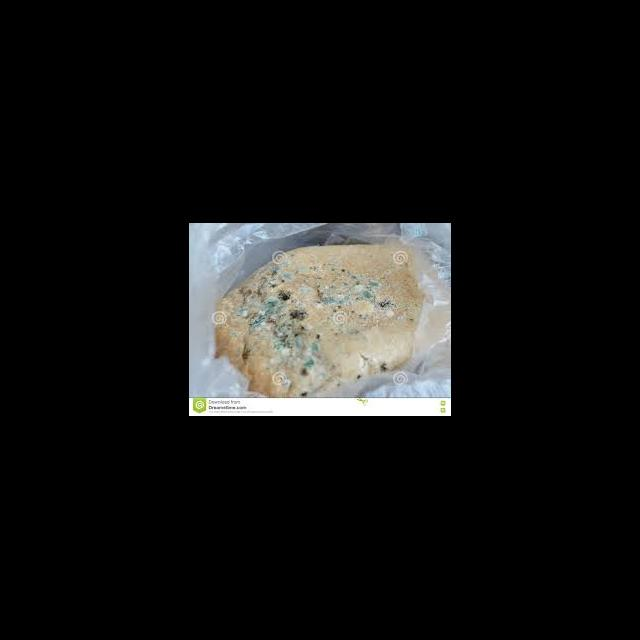food_waste: (211, 236, 449, 395)
